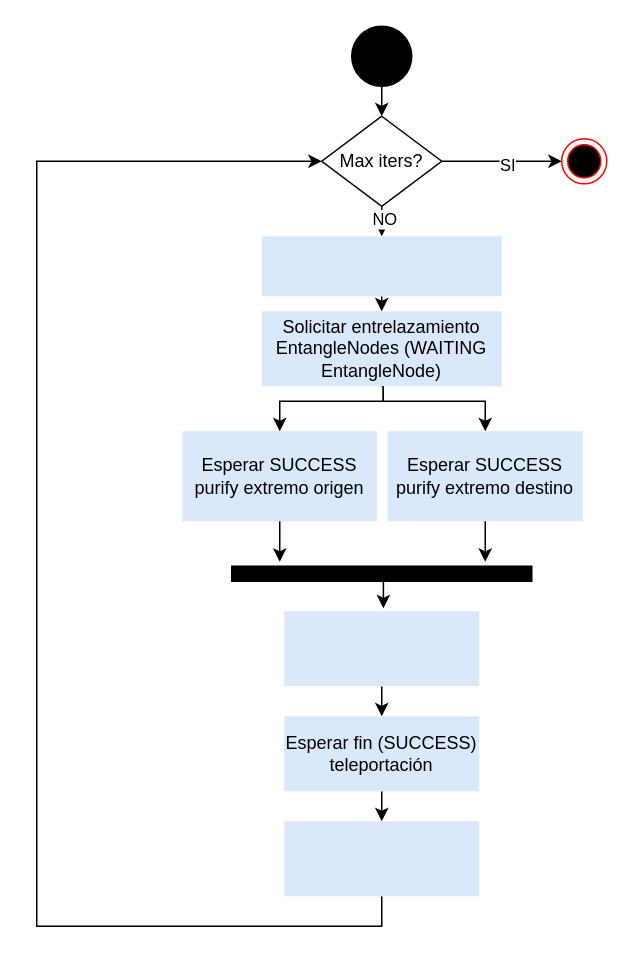
Some shapes in this 633 by 965 pixel diagram are drawn without their labels. Here are the shapes that lost their labels. From the top down, the centre of each, then its label:
At (x=381, y=266): "Inicializar contadores".
At (x=381, y=648): "Notificar origen inicio teleportación (WAITING a TeleportProtocol)".
At (x=381, y=858): "Registrar metricas".
